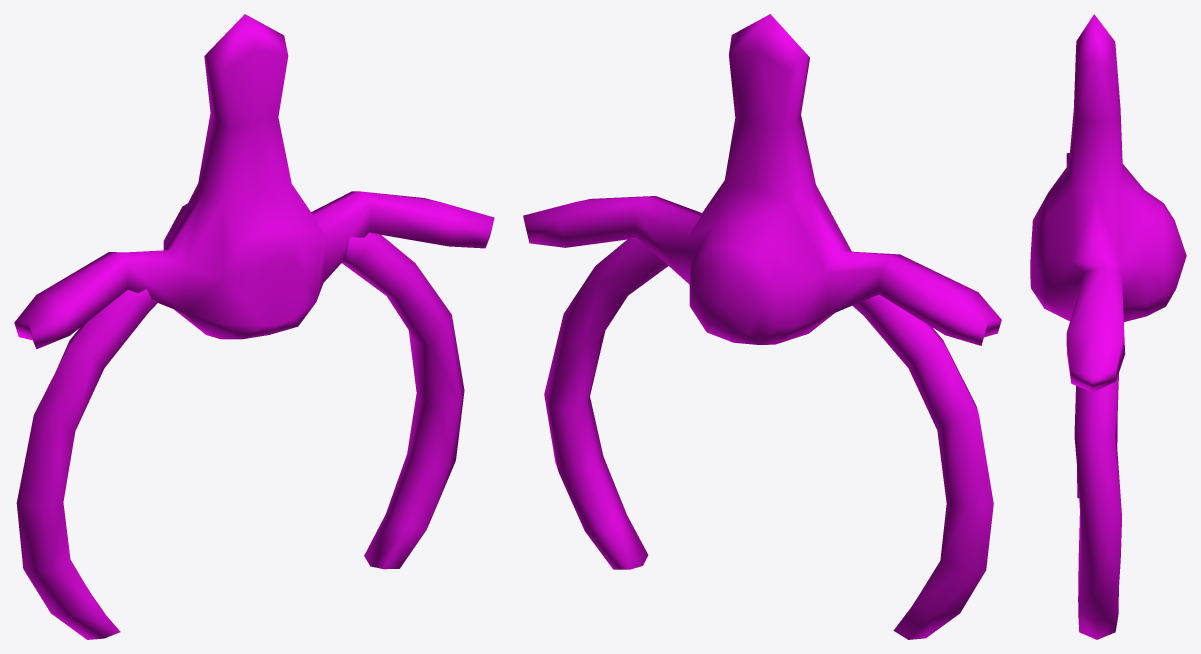
Rendered from espina_3.fbx.
3 views of the same model, side by side, from view 1: azimuth 30°, elevation 25°; view 2: azimuth 150°, elevation 25°; view 3: azimuth 270°, elevation 25° (orthographic). The views are drawn at different scales.
Visible parts, largest first — view 1: polySurface76; view 2: polySurface76; view 3: polySurface76.
Part boxes in pixels (x1,y1,x2,y2): polySurface76: (14,14,494,639); polySurface76: (523,14,1001,639); polySurface76: (1030,14,1186,639).
Size of the model in its own units: 8.19 by 9.71 by 2.48.
